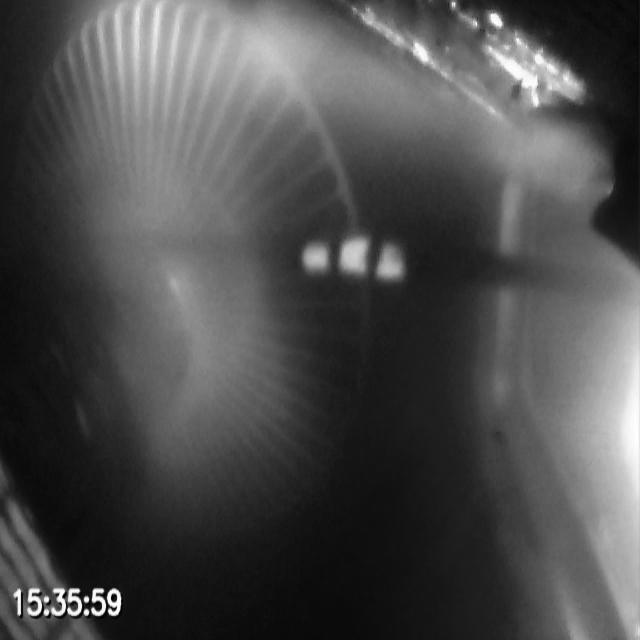white-dots: (301, 236, 405, 283)
